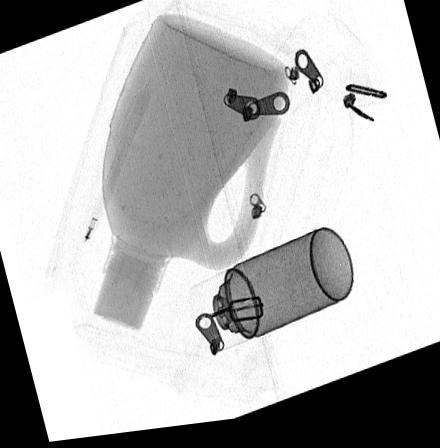Sprayer: (189, 234, 353, 357)
